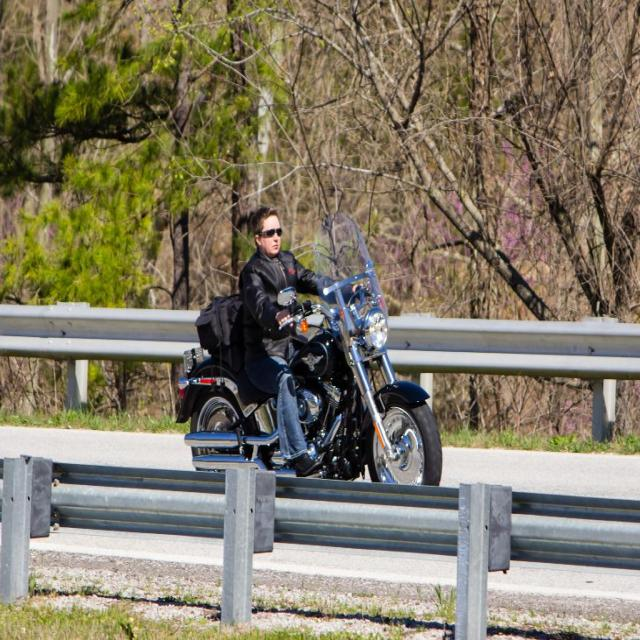Motorbikes: (176, 204, 443, 497)
